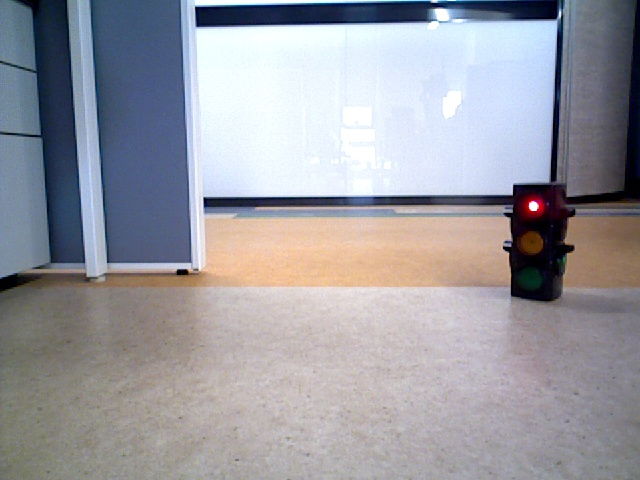red: (512, 183, 553, 294)
